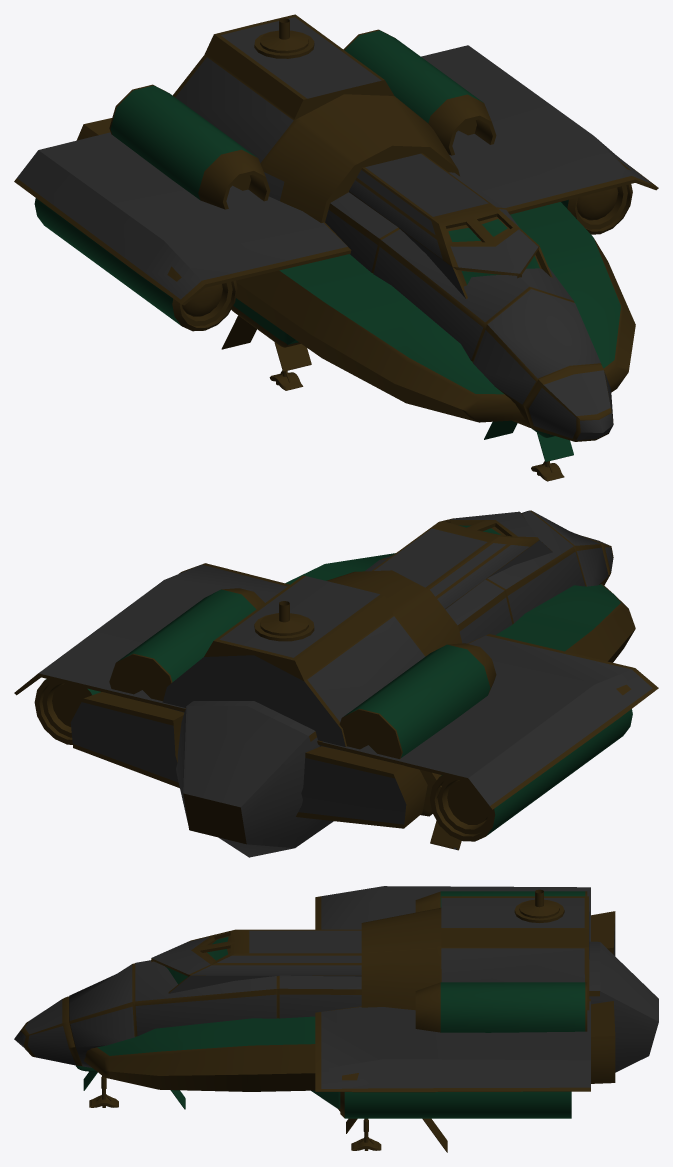
The model's file is SpaceCraftOnlyReady4Tex.fbx.
3 views of the same model, one above another, from view 1: azimuth 30°, elevation 25°; view 2: azimuth 150°, elevation 25°; view 3: azimuth 270°, elevation 25° (orthographic). The views are drawn at different scales.
Visible parts, largest first — view 1: TurretBase; view 2: TurretBase; view 3: TurretBase.
Boxes of the visible parts, x1,y1,x2,y2 form: TurretBase: (14,14,658,481); TurretBase: (14,510,658,857); TurretBase: (14,886,658,1152).
Size of the model in its own units: 975 by 505 by 1377.
